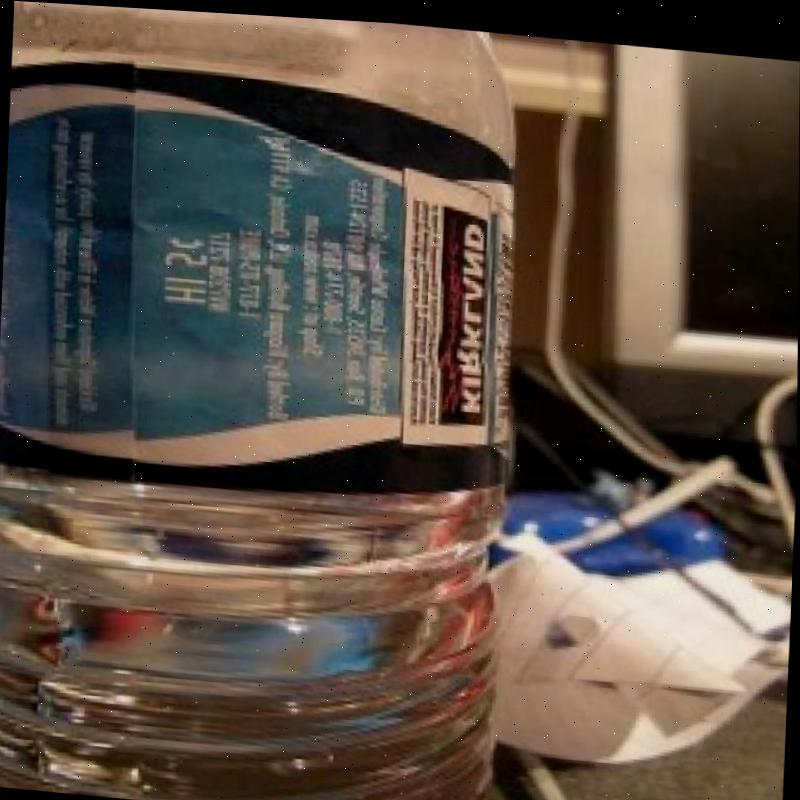botella: (0, 0, 530, 800)
